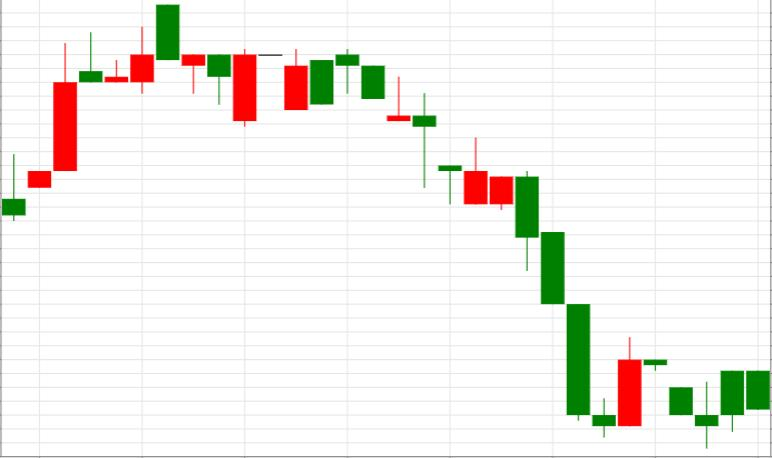morning_star_rise: (412, 93, 642, 438)
